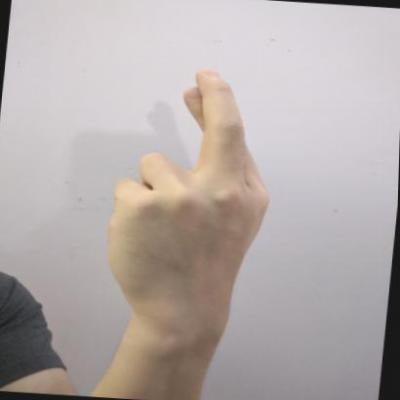hand: (92, 60, 290, 340)
